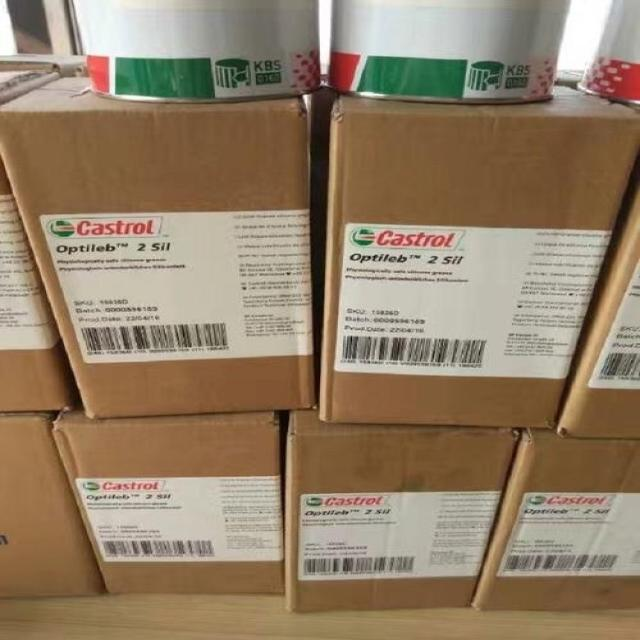box: (320, 84, 640, 429), (0, 76, 316, 423), (285, 410, 524, 613), (51, 402, 283, 594), (470, 430, 640, 611), (556, 182, 640, 440), (0, 154, 82, 411), (0, 411, 108, 598)
